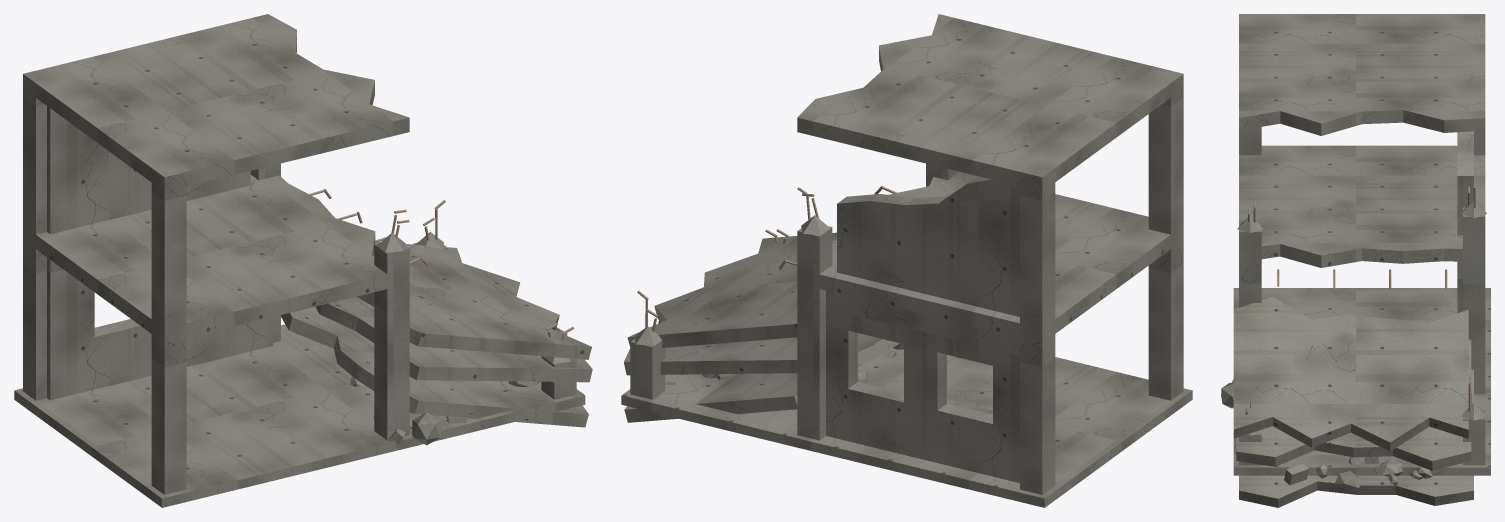
The model's file is Building_Collapsed_Wing.fbx.
3 renders of one model, left to right at view 1: azimuth 30°, elevation 25°; view 2: azimuth 150°, elevation 25°; view 3: azimuth 270°, elevation 25°, orthographic. The views are drawn at different scales.
Visible parts, largest first — view 1: Building_Collapsed_Wing; view 2: Building_Collapsed_Wing; view 3: Building_Collapsed_Wing.
Boxes of the visible parts, x1,y1,x2,y2 form: Building_Collapsed_Wing: (14, 14, 592, 507); Building_Collapsed_Wing: (621, 14, 1192, 507); Building_Collapsed_Wing: (1221, 14, 1490, 507).
Bounding box in the file's own units: 8.43 × 6.12 × 4.82.
Materials: 2 (1 with a texture image).
